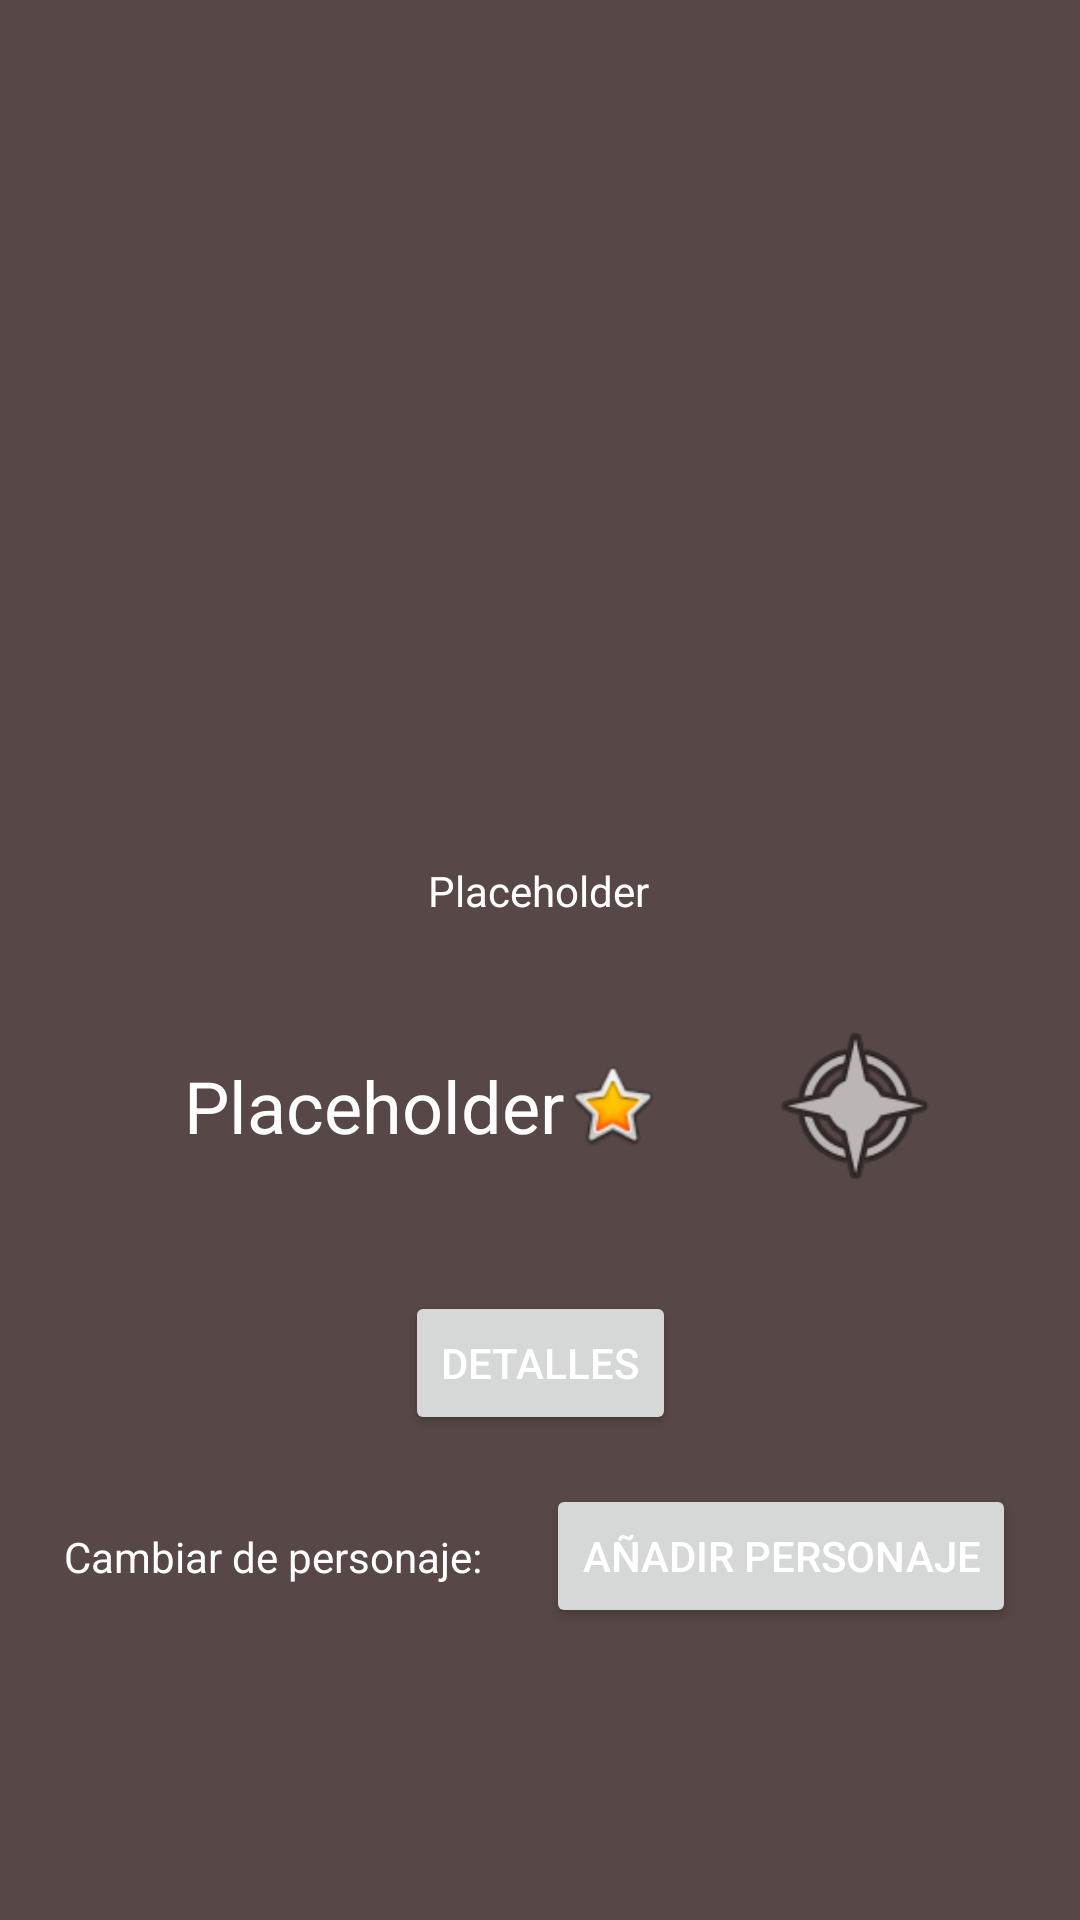

Screen size 1080×1920. Icon name, then its center in pixels as (x,y):
Estrella: (613,1106)
